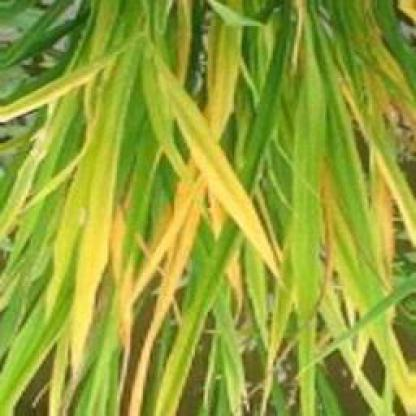Tungro: (123, 58, 242, 395), (152, 73, 298, 281), (68, 84, 115, 386), (361, 131, 416, 247), (3, 60, 96, 127)
